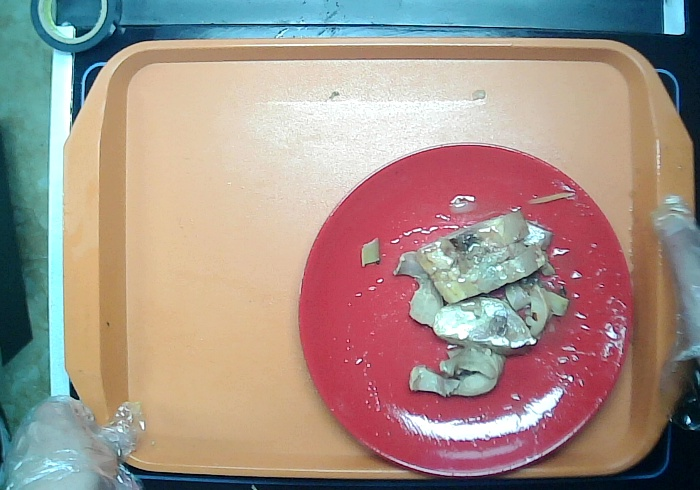HZYJPL-Hong_Se_Yuan_Pan: (295, 138, 636, 485)
